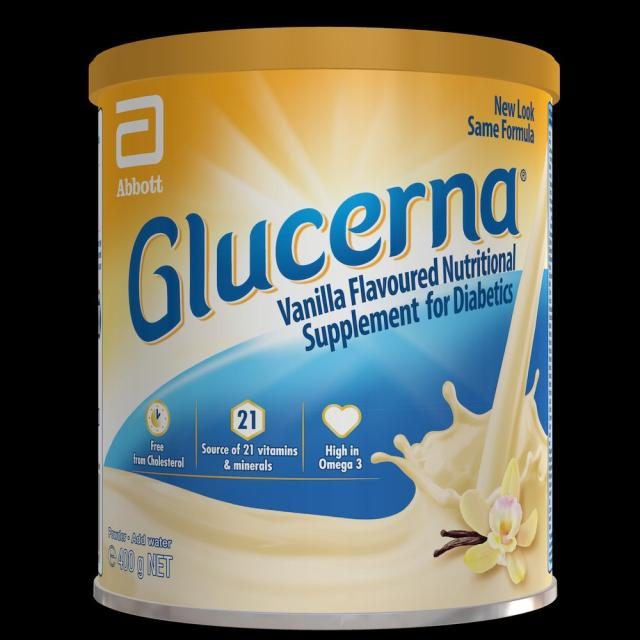food-supliment: (101, 82, 544, 595)
